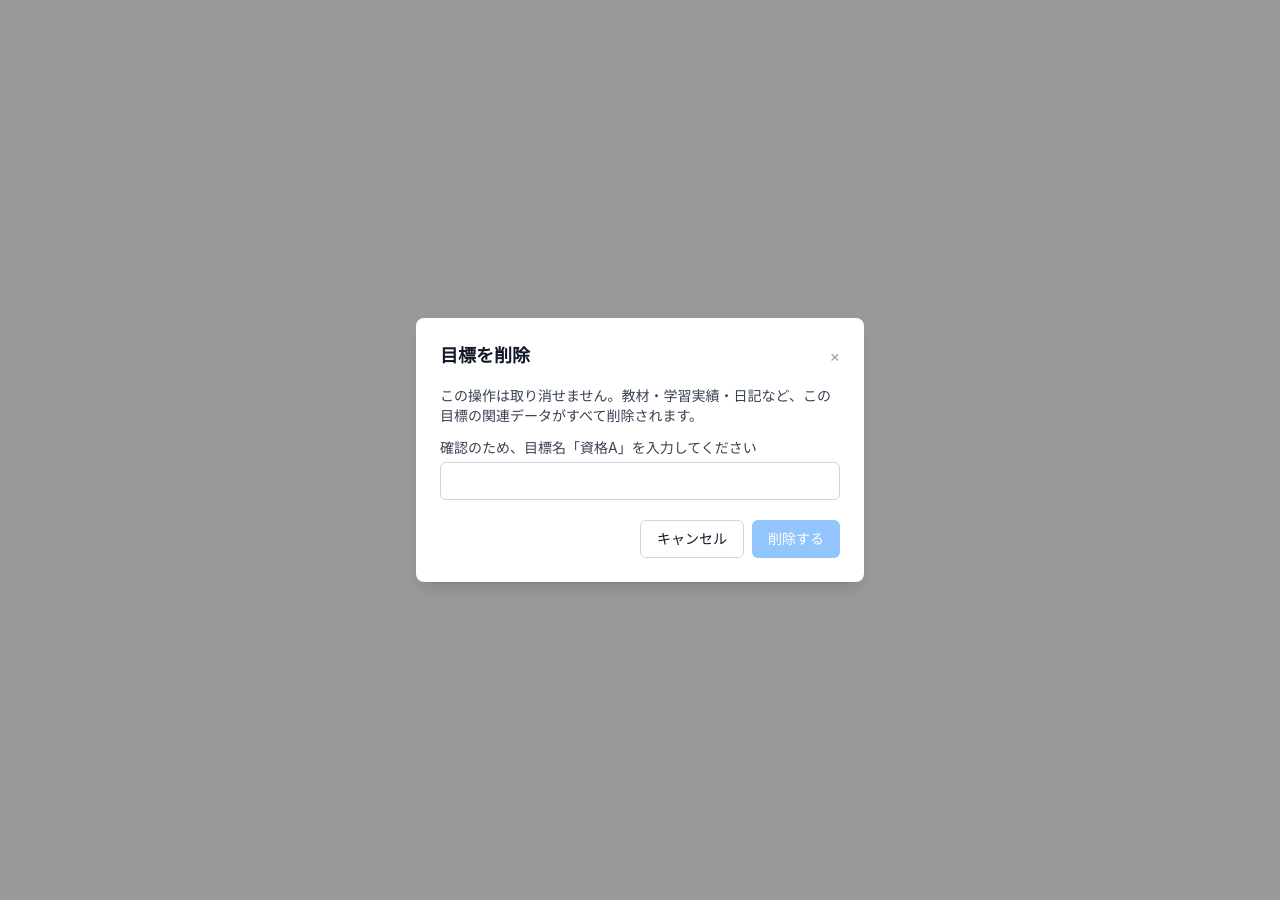
DeleteGoalModal › asks for the goal name and keeps delete disabled until it matches
Expected: the button "削除する" is disabled, [752,520,840,558]
In the field: (640, 481) [440,462,840,500], type "資格"
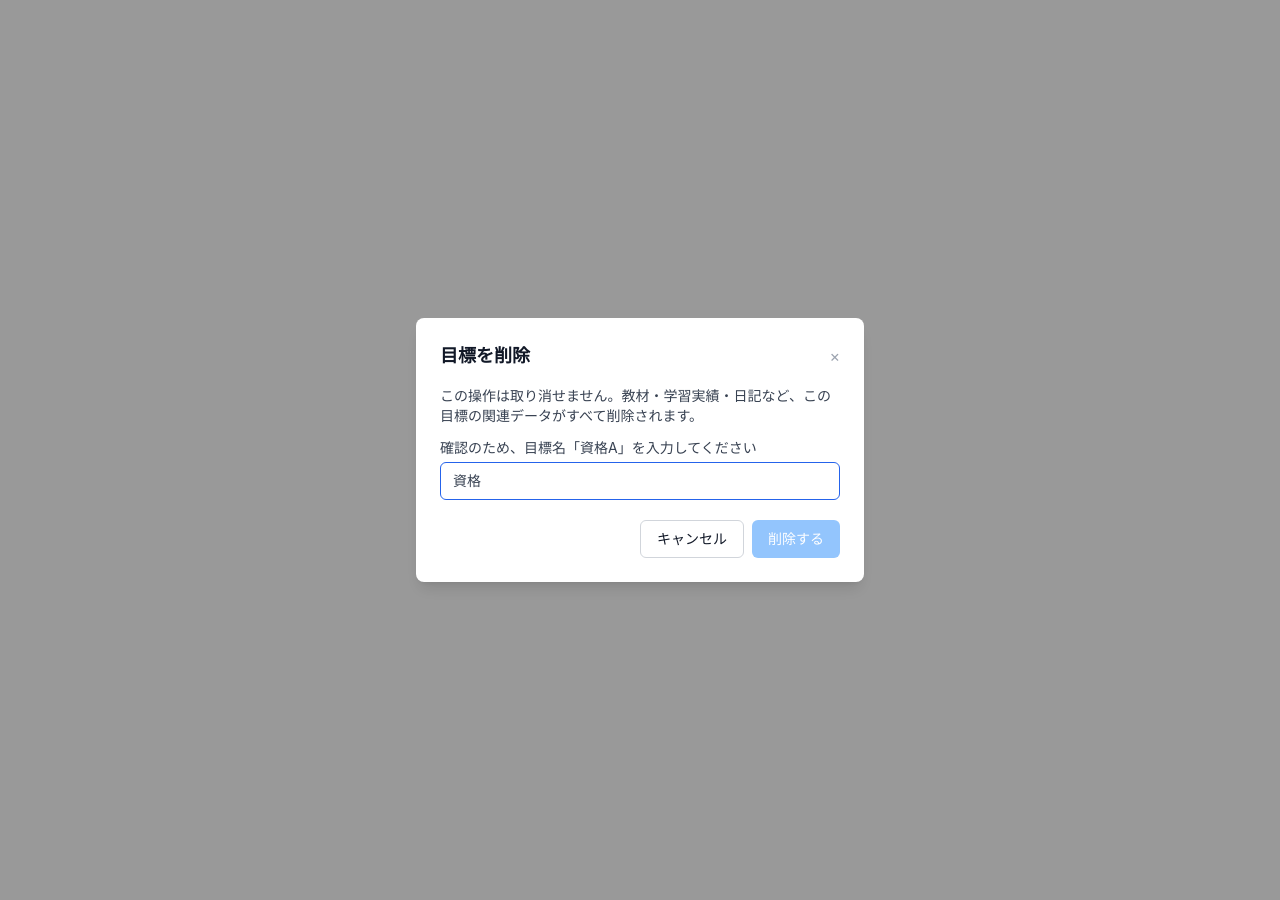
Expected: the button "削除する" is disabled, [752,520,840,558]
In the field: (640, 481) [440,462,840,500], type "A"
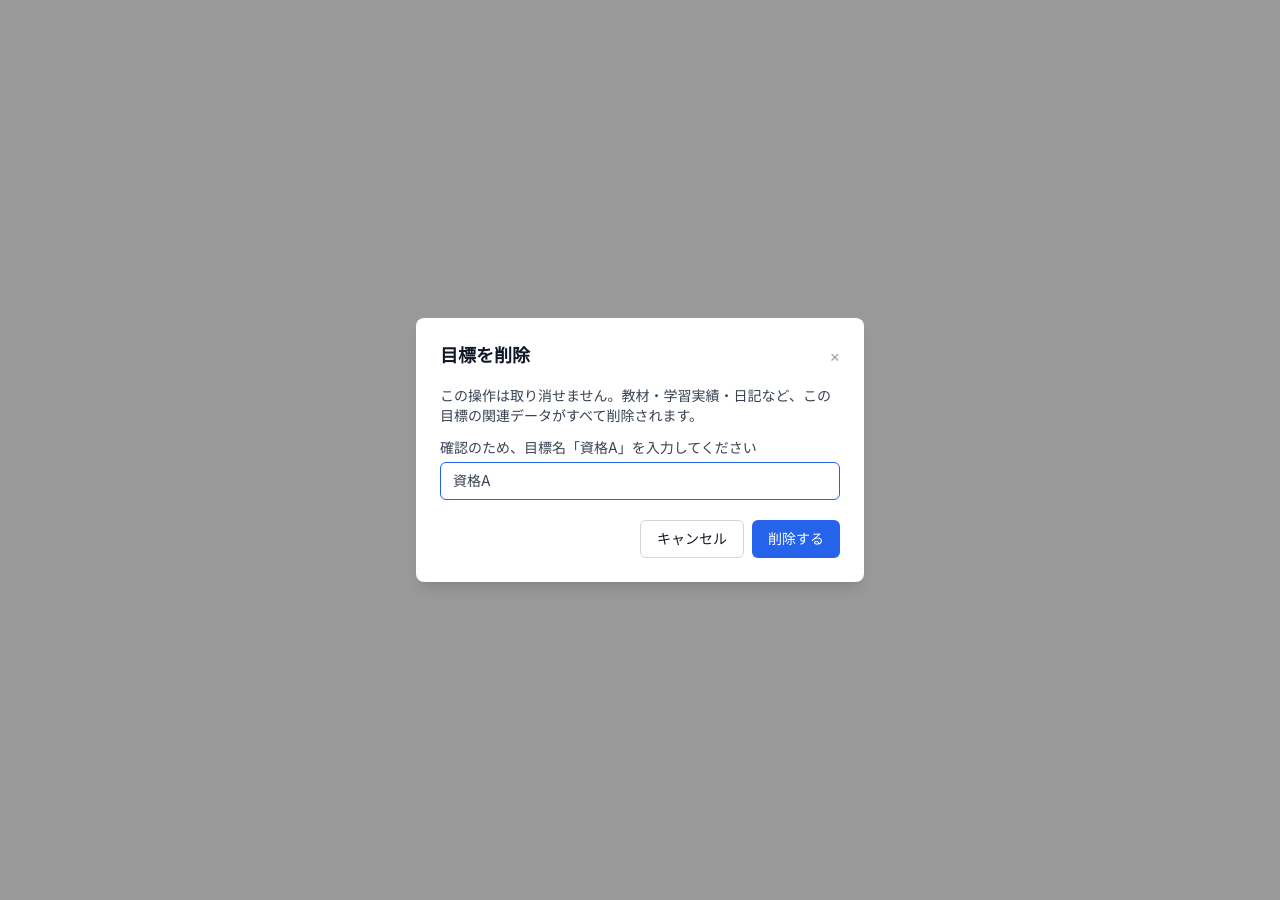
Expected: the button "削除する" is enabled, [752,520,840,558]
